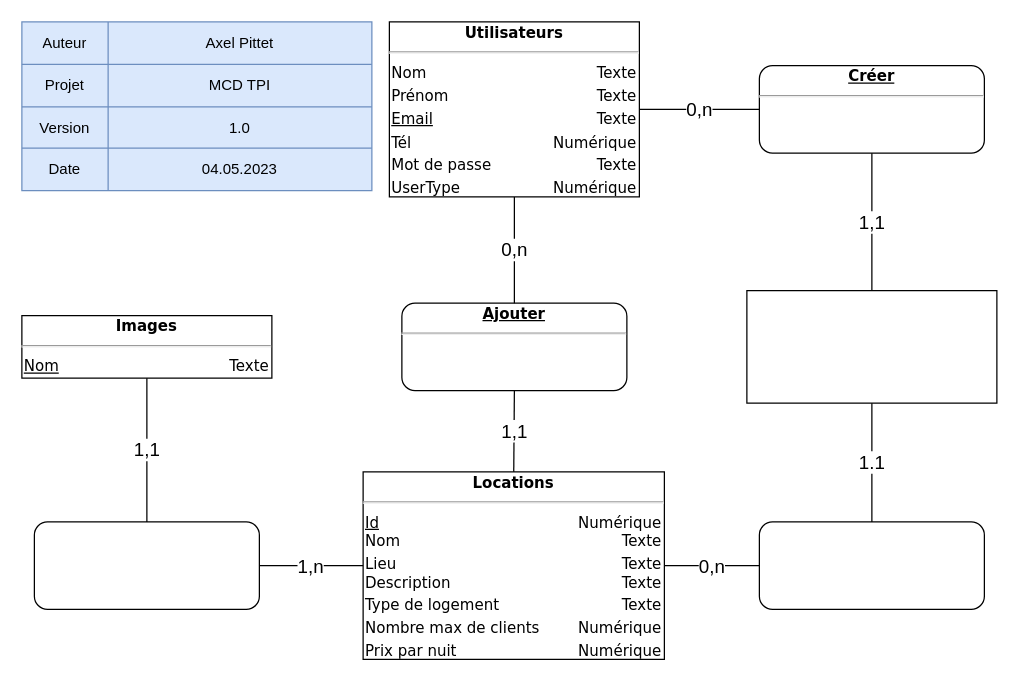
The diagram is 1019 pixels wide and 681 high, and some of its shapes have lost their labels. The centre of each missing label's shape, as x and y in pixels:
"Contenir" goes at [871,565].
"Posséder" goes at [146,565].
"Réservations Id Numérique Date de début Date Date de fin Date" goes at [871,346].
